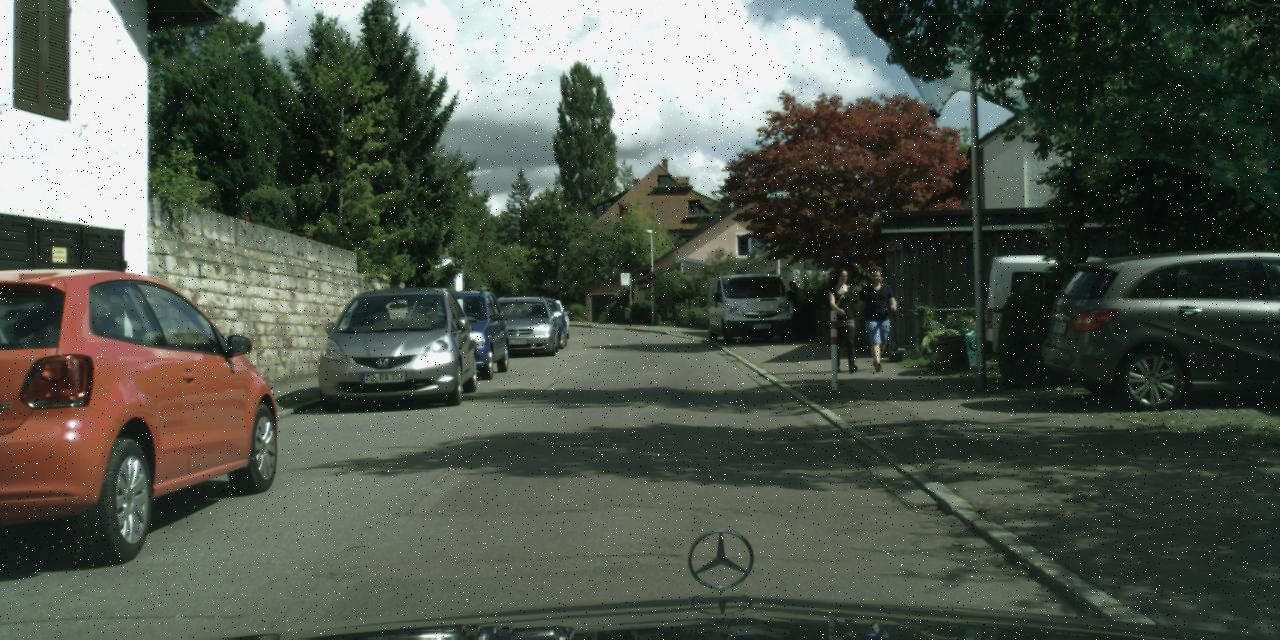ped: (822, 268, 864, 370), (856, 266, 896, 368), (782, 280, 806, 340)
